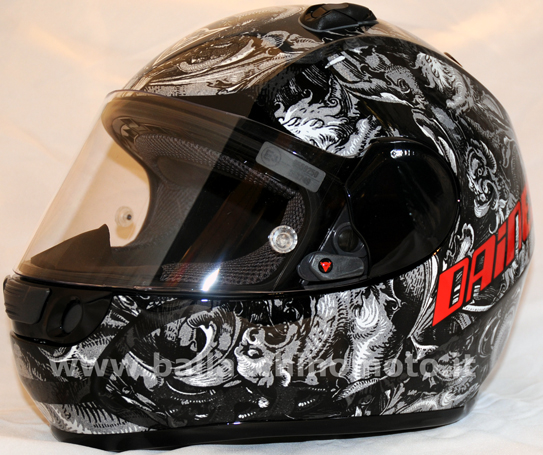helmet: (35, 27, 512, 422)
